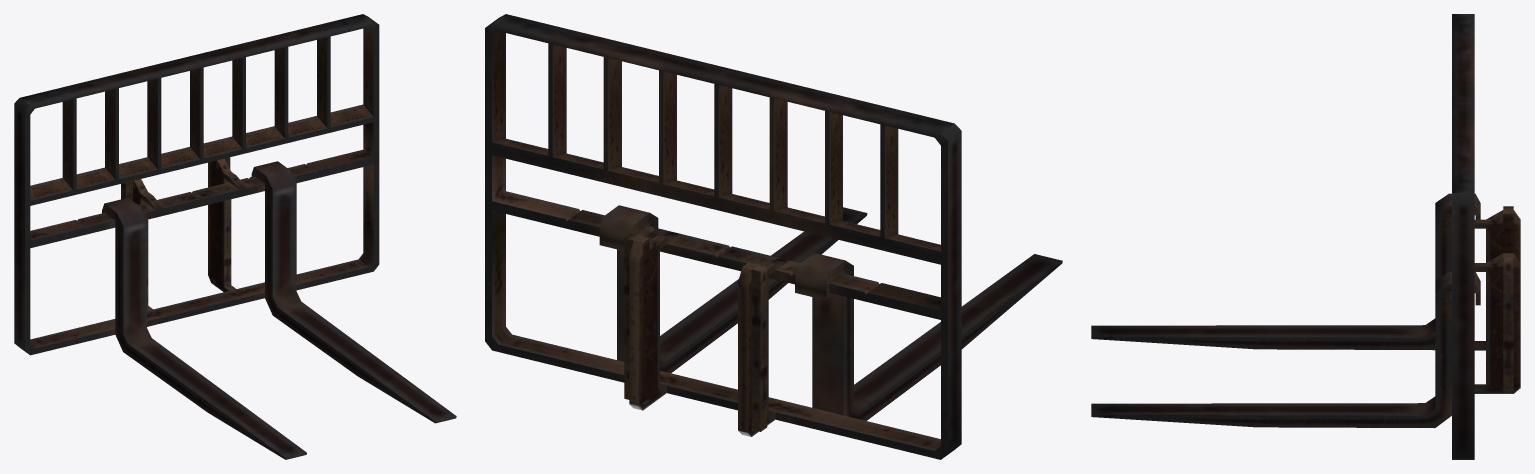
The model's file is fl_carriage.glb.
3 renders of one model, left to right at view 1: azimuth 30°, elevation 25°; view 2: azimuth 150°, elevation 25°; view 3: azimuth 270°, elevation 25°, orthographic. The views are drawn at different scales.
Size of the model in its own units: 1.47 by 1.04 by 1.44.
Materials: 1 (1 with a texture image).
